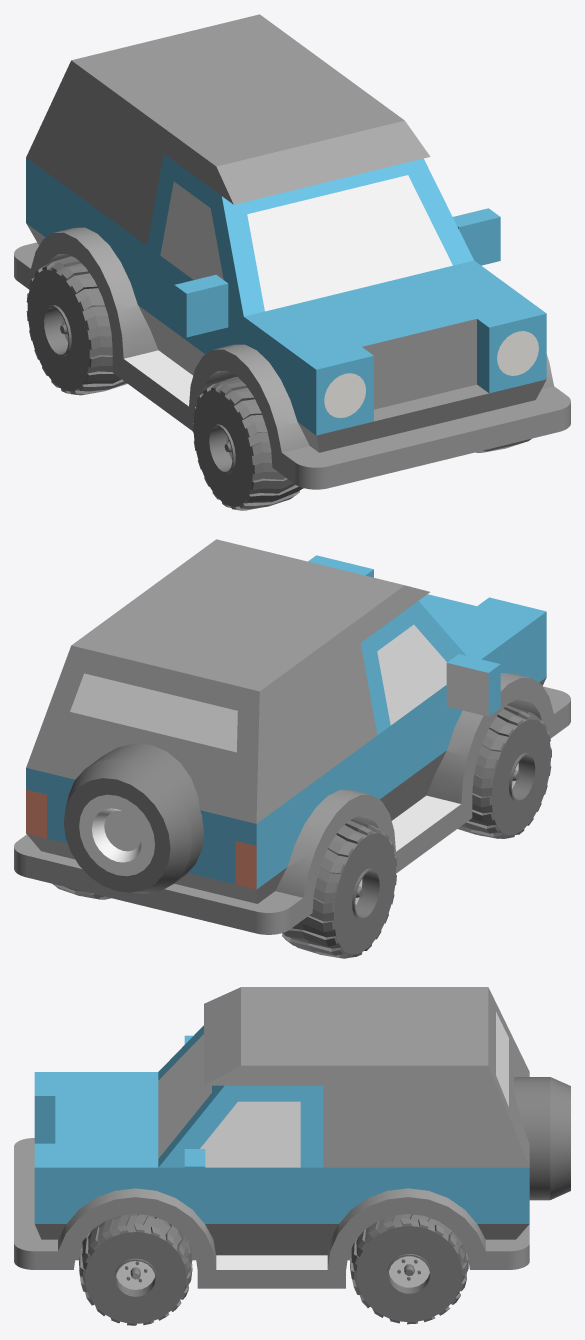
Rendered from suv2.fbx.
3 renders of one model, top to bottom at view 1: azimuth 30°, elevation 25°; view 2: azimuth 150°, elevation 25°; view 3: azimuth 270°, elevation 25°, orthographic. The views are drawn at different scales.
Visible parts, largest first — view 1: body, Rear_wheel.002, Front_wheel.002; view 2: body, wheel_back, Rear_wheel.002, Front_wheel.002; view 3: body, Rear_wheel1, Front_wheel1, wheel_back.
Boxes of the visible parts, x1=… form: body: x1=14, y1=14, x2=570, y2=489; Rear_wheel.002: x1=26, y1=256, x2=127, y2=395; Front_wheel.002: x1=192, y1=377, x2=303, y2=510; body: x1=14, y1=539, x2=570, y2=934; wheel_back: x1=63, y1=743, x2=203, y2=893; Rear_wheel.002: x1=282, y1=819, x2=396, y2=958; Front_wheel.002: x1=457, y1=705, x2=551, y2=838; body: x1=14, y1=987, x2=529, y2=1288; Rear_wheel1: x1=350, y1=1214, x2=468, y2=1324; Front_wheel1: x1=79, y1=1214, x2=192, y2=1325; wheel_back: x1=513, y1=1077, x2=570, y2=1200.
Size of the model in its own units: 3.8 by 3.29 by 6.84.
